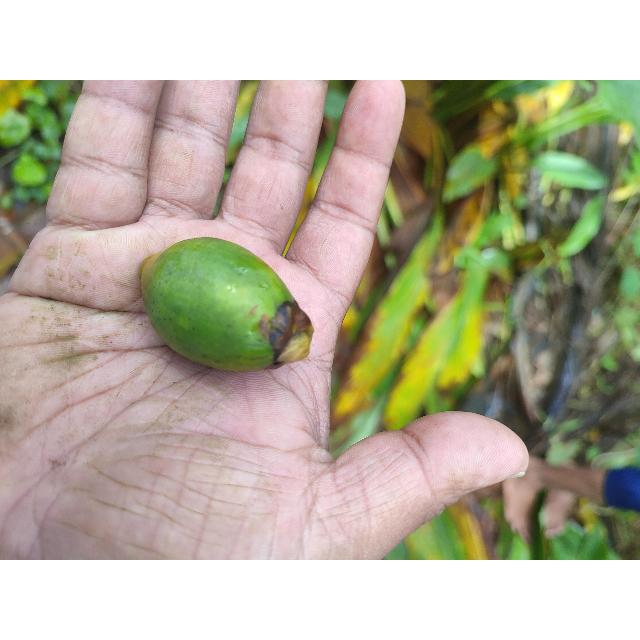good: (144, 238, 314, 373)
